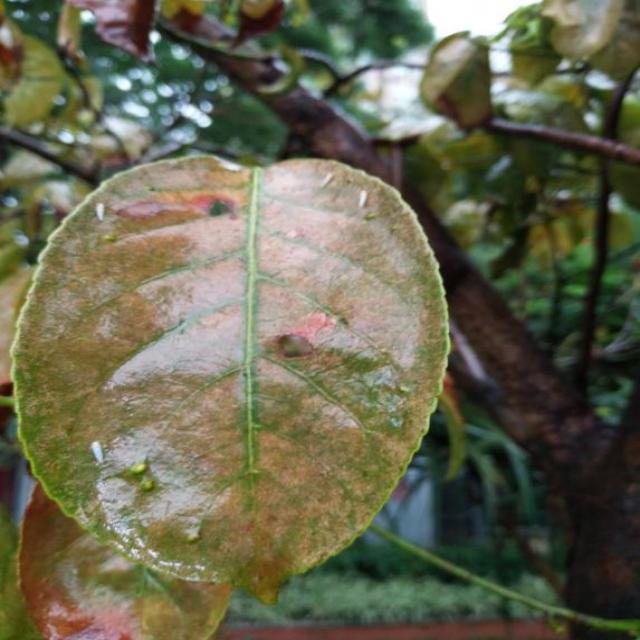Yechan: (75, 284, 90, 324), (290, 274, 304, 309), (70, 632, 91, 640)
